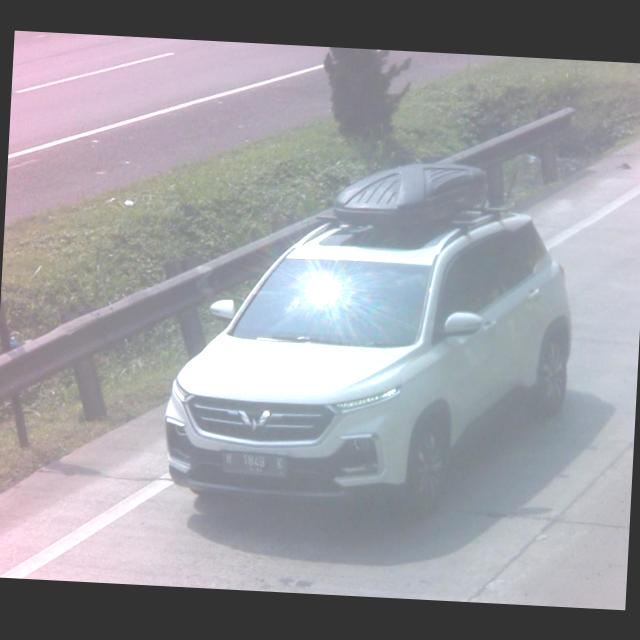plate: (220, 450, 288, 477)
